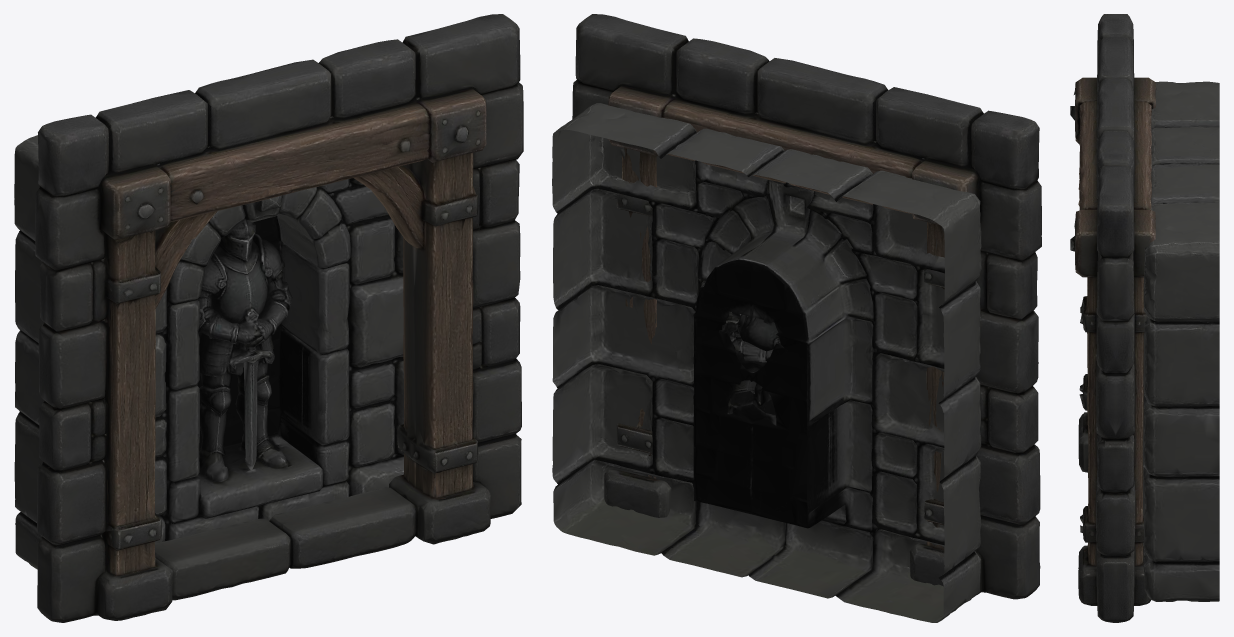
The model's file is Wall_ArmorRecessedWoodFramed.fbx.
3 renders of one model, left to right at view 1: azimuth 30°, elevation 25°; view 2: azimuth 150°, elevation 25°; view 3: azimuth 270°, elevation 25°, orthographic. The views are drawn at different scales.
Parts seen in each view (by area): view 1: Wall_ArmorRecessedWoodFramed; view 2: Wall_ArmorRecessedWoodFramed; view 3: Wall_ArmorRecessedWoodFramed.
Part boxes in pixels (bbox=[...]): Wall_ArmorRecessedWoodFramed: bbox=[14, 14, 523, 622]; Wall_ArmorRecessedWoodFramed: bbox=[552, 14, 1041, 622]; Wall_ArmorRecessedWoodFramed: bbox=[1070, 14, 1219, 622].
Bounding box in the file's own units: 310 × 304 × 98.38.
